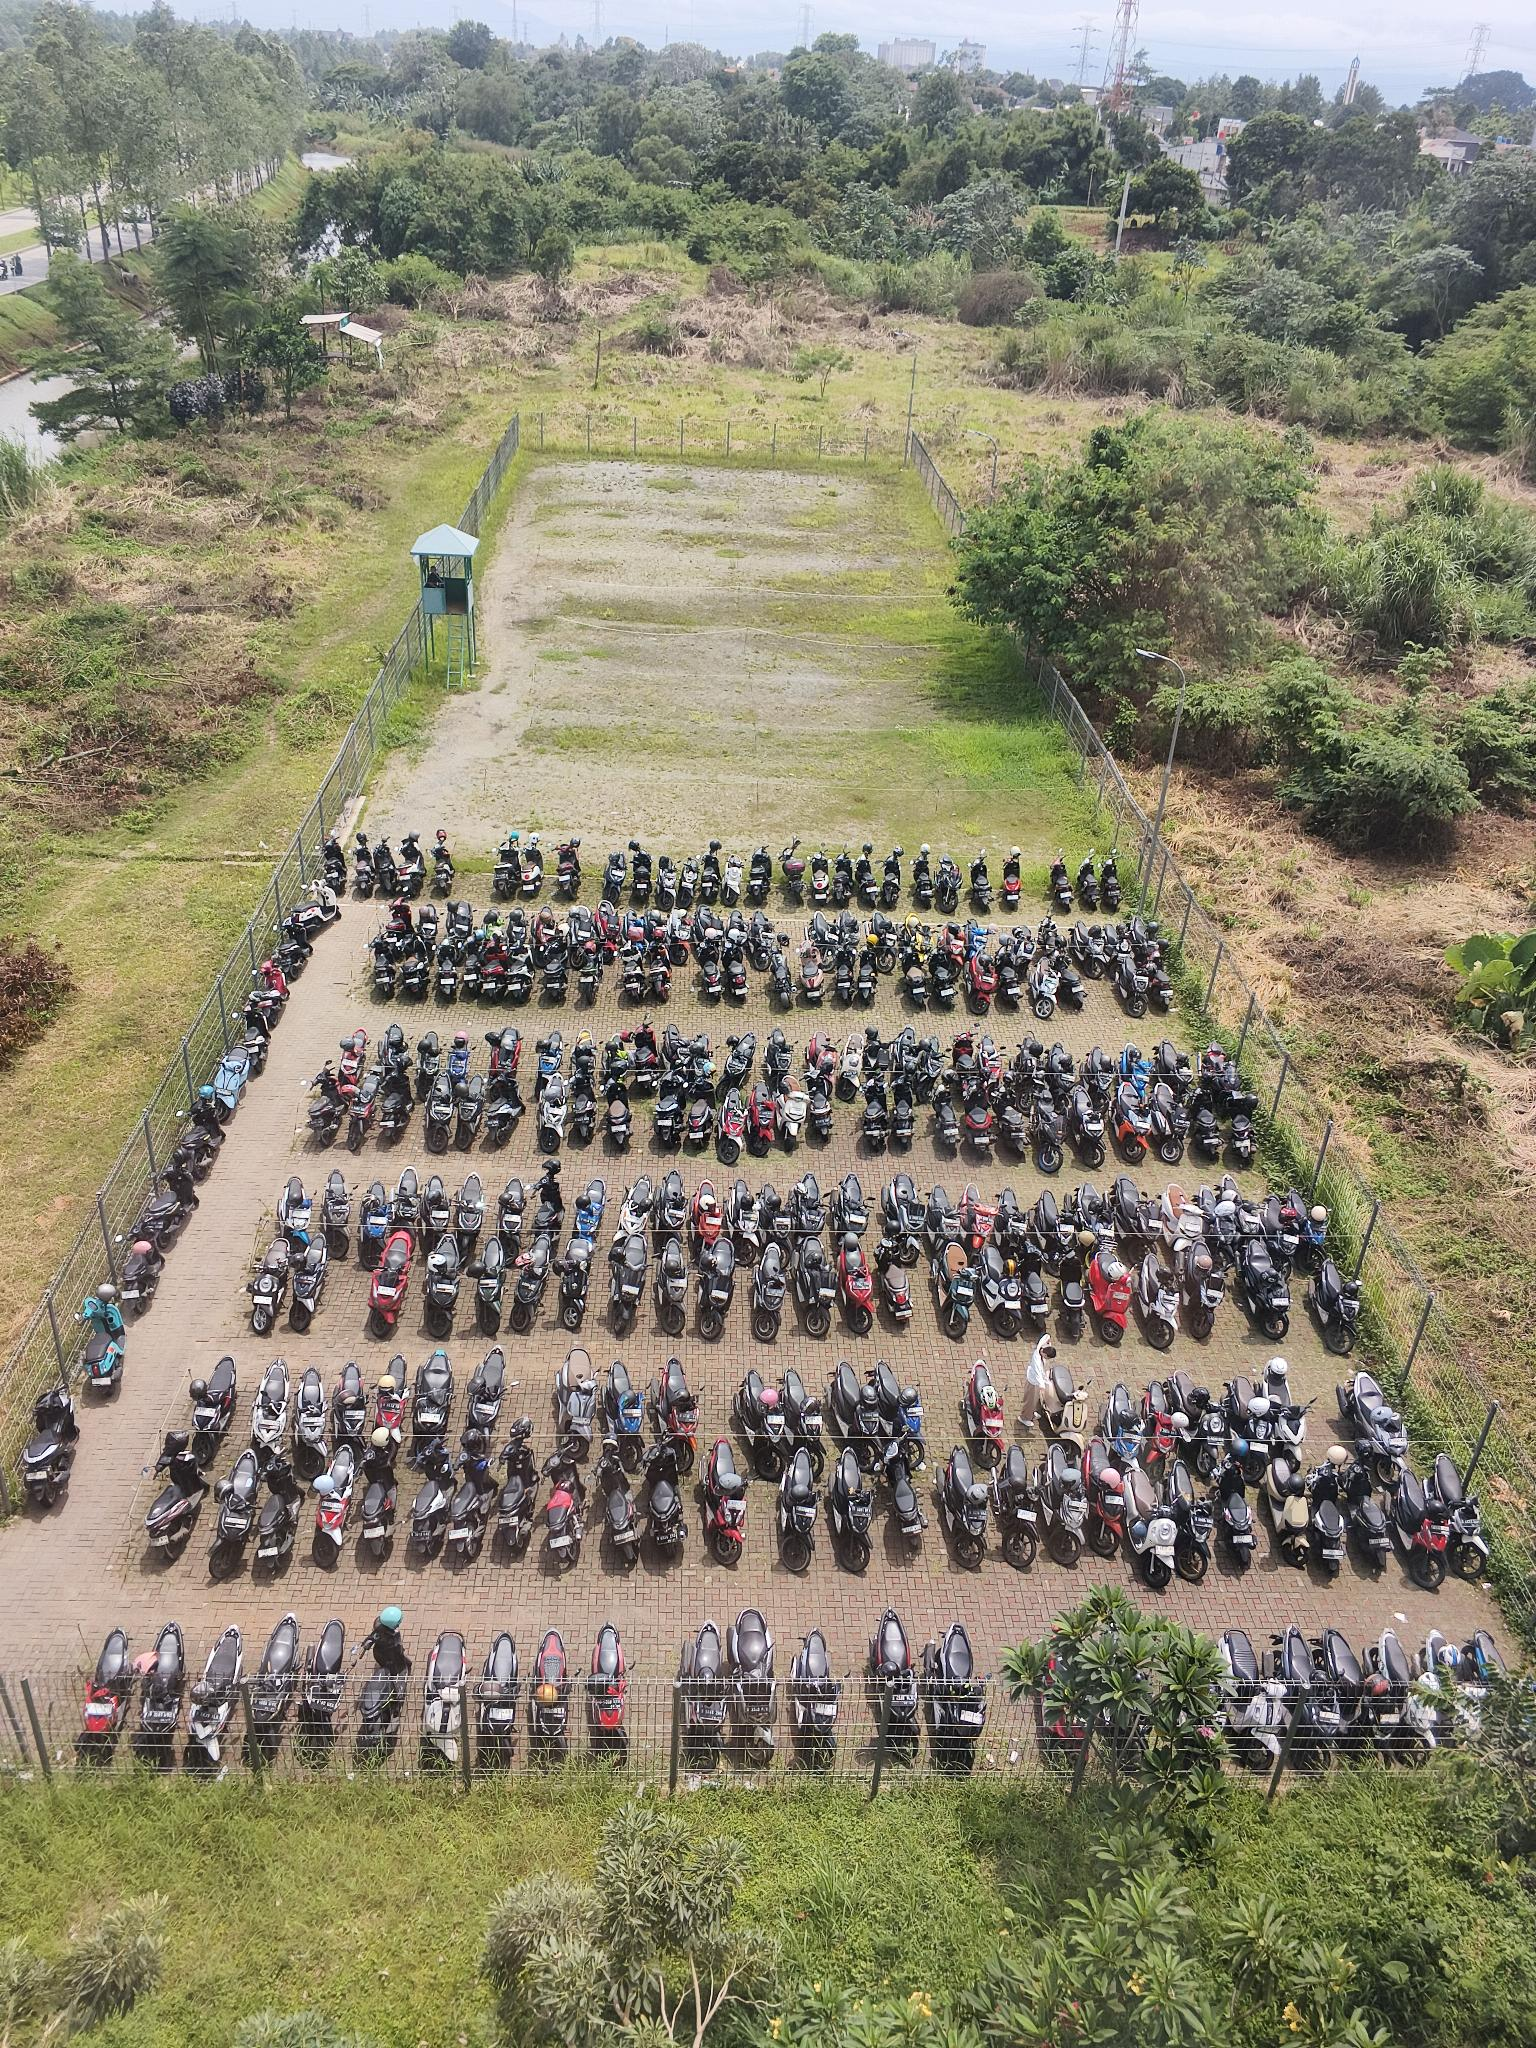motor: (1262, 1619, 1349, 1774), (918, 1616, 991, 1779), (1208, 1619, 1281, 1769), (863, 1609, 928, 1771), (786, 1625, 854, 1777), (1320, 1629, 1400, 1753), (721, 1611, 786, 1764), (579, 1617, 639, 1780), (353, 1605, 411, 1769), (1333, 1366, 1412, 1485), (674, 1617, 733, 1777), (18, 1384, 87, 1514), (1384, 1463, 1455, 1588), (76, 1622, 137, 1767), (187, 1622, 244, 1774), (1428, 1447, 1492, 1579), (471, 1624, 526, 1777), (134, 1617, 187, 1774), (697, 1432, 755, 1574), (523, 1621, 579, 1766), (865, 1355, 934, 1469), (144, 1430, 205, 1559), (537, 1437, 592, 1572), (647, 1353, 707, 1474), (934, 1442, 991, 1569), (1254, 1356, 1317, 1469), (591, 1440, 644, 1572), (733, 1364, 791, 1485), (74, 1284, 137, 1395), (248, 1616, 297, 1759), (824, 1359, 884, 1476), (1258, 1448, 1317, 1566), (1125, 1464, 1176, 1596), (955, 1355, 1016, 1466), (1162, 1456, 1217, 1580), (1342, 1442, 1392, 1577), (1231, 1237, 1296, 1342), (1163, 1367, 1228, 1472), (1213, 1442, 1263, 1574), (828, 1445, 876, 1580), (210, 1450, 258, 1584), (253, 1448, 303, 1577), (1304, 1255, 1363, 1363), (145, 1148, 207, 1253), (878, 1432, 931, 1551), (992, 1440, 1041, 1571), (550, 1345, 603, 1463), (773, 1447, 821, 1576), (305, 1617, 347, 1766), (599, 1355, 652, 1469), (1039, 1442, 1087, 1567), (1217, 1369, 1271, 1479), (186, 1351, 239, 1464), (452, 1432, 497, 1563), (289, 1358, 336, 1484), (642, 1438, 691, 1559), (358, 1427, 402, 1561), (1175, 1240, 1231, 1343), (779, 1363, 831, 1474), (1084, 1240, 1137, 1347), (1105, 1171, 1167, 1263), (929, 1238, 983, 1343), (791, 1232, 841, 1342), (311, 1445, 355, 1571), (1312, 1443, 1352, 1579), (408, 1437, 452, 1559), (871, 1222, 921, 1329), (368, 1224, 413, 1340), (741, 1238, 791, 1343), (978, 1237, 1028, 1342), (248, 1351, 292, 1471), (1081, 1438, 1125, 1558), (461, 1340, 513, 1437), (1136, 1247, 1183, 1353), (1050, 1235, 1096, 1345), (497, 1430, 539, 1548), (118, 1218, 168, 1316), (650, 1230, 695, 1337), (694, 1235, 739, 1342), (1136, 1374, 1181, 1480), (834, 1229, 878, 1337), (465, 1234, 510, 1337), (410, 1342, 455, 1445), (369, 1350, 411, 1458), (328, 1359, 371, 1463), (424, 1232, 466, 1338), (481, 1061, 529, 1151), (550, 1234, 595, 1330), (607, 1230, 647, 1338), (1041, 1364, 1096, 1443), (289, 1230, 331, 1334), (881, 1171, 928, 1261), (177, 1089, 224, 1179), (510, 1232, 552, 1330), (1065, 1082, 1110, 1172), (1108, 1079, 1154, 1169), (248, 1235, 289, 1335), (923, 1069, 966, 1159), (1286, 1185, 1331, 1272), (300, 1063, 347, 1147), (207, 1042, 252, 1126), (600, 1053, 636, 1159), (1021, 1230, 1057, 1337), (1029, 1087, 1070, 1180), (352, 1177, 392, 1271), (286, 879, 345, 942), (718, 1176, 763, 1258), (318, 1166, 358, 1258), (1258, 1192, 1300, 1279), (1097, 1379, 1142, 1459), (273, 1171, 311, 1264), (649, 1066, 689, 1155), (529, 1063, 568, 1155), (1025, 1187, 1076, 1255), (1150, 1079, 1191, 1164), (1221, 1087, 1263, 1168), (713, 1030, 762, 1100), (960, 1072, 997, 1163), (1154, 1179, 1207, 1242), (1457, 1622, 1510, 1685), (1409, 1622, 1462, 1685), (566, 1174, 613, 1245), (854, 1071, 892, 1156), (450, 1169, 486, 1261), (994, 1080, 1031, 1168), (529, 1158, 571, 1234), (800, 1063, 837, 1148), (887, 1066, 921, 1159), (232, 1000, 276, 1072), (344, 1071, 382, 1151), (271, 911, 313, 985), (566, 1056, 602, 1143), (684, 1063, 716, 1158), (954, 1180, 1002, 1243), (828, 1169, 874, 1234), (250, 955, 290, 1029), (1184, 1087, 1225, 1161), (784, 1168, 829, 1234), (381, 1059, 415, 1147), (776, 1071, 810, 1158), (1218, 1172, 1262, 1238), (650, 1168, 689, 1242), (1070, 1177, 1115, 1240), (1365, 1627, 1417, 1682), (423, 1068, 455, 1155), (1192, 1037, 1244, 1090), (991, 1182, 1036, 1242), (657, 1019, 692, 1095), (492, 1174, 528, 1250), (389, 1164, 423, 1243), (1192, 1179, 1233, 1245), (1008, 1029, 1046, 1100), (755, 1169, 794, 1237), (615, 1172, 653, 1240), (715, 1085, 747, 1166), (962, 947, 997, 1019), (1112, 950, 1149, 1019), (1150, 1035, 1194, 1093), (455, 1064, 484, 1151), (994, 935, 1026, 1013), (925, 1180, 965, 1242), (616, 932, 650, 1005), (1112, 1040, 1155, 1097), (760, 1021, 799, 1084), (684, 1176, 726, 1234), (537, 934, 571, 1005), (489, 1022, 526, 1087), (802, 910, 841, 971), (695, 927, 726, 1005), (634, 1011, 662, 1097), (797, 932, 829, 1005), (934, 847, 966, 918), (532, 1024, 565, 1095), (645, 929, 676, 1003), (1068, 921, 1107, 979), (394, 830, 428, 897), (550, 835, 584, 901), (397, 935, 431, 1001), (368, 929, 399, 1001), (928, 942, 958, 1014), (721, 927, 750, 1003), (899, 908, 937, 964), (1028, 955, 1062, 1019), (805, 1027, 837, 1095), (423, 1171, 455, 1238), (907, 842, 937, 913), (766, 939, 797, 1009), (749, 1076, 774, 1159), (834, 1029, 863, 1103), (426, 829, 458, 895), (490, 829, 523, 895), (1046, 1035, 1076, 1105), (578, 929, 605, 1006), (1147, 937, 1175, 1014), (1078, 1042, 1117, 1097), (900, 942, 929, 1014), (413, 1026, 442, 1098), (944, 1022, 981, 1079), (778, 837, 808, 905), (507, 934, 536, 1005), (854, 935, 883, 1006), (689, 1030, 718, 1101), (999, 843, 1026, 918), (481, 932, 508, 1005), (1060, 947, 1089, 1014), (965, 848, 995, 911), (339, 1022, 369, 1085), (566, 1026, 599, 1085), (879, 843, 908, 910), (868, 908, 897, 974), (529, 900, 558, 966), (432, 934, 458, 1008), (745, 908, 776, 969), (444, 898, 474, 959), (862, 1022, 892, 1084), (444, 1026, 474, 1087), (518, 830, 545, 898), (566, 900, 594, 968), (978, 1027, 1005, 1095), (1047, 847, 1075, 913), (1075, 845, 1102, 911), (350, 832, 376, 901), (628, 835, 653, 905), (831, 939, 857, 1008), (918, 1029, 944, 1098), (415, 903, 444, 964), (384, 889, 415, 947), (749, 843, 776, 908), (374, 1018, 407, 1072), (892, 1022, 918, 1090), (602, 1026, 629, 1087), (321, 837, 349, 895), (697, 839, 723, 900), (854, 845, 879, 906), (1005, 922, 1036, 974), (941, 918, 966, 979), (834, 906, 865, 958), (1100, 850, 1125, 914), (600, 847, 626, 905), (373, 835, 397, 897), (810, 842, 833, 906), (594, 898, 618, 958), (833, 840, 854, 908), (463, 929, 482, 998), (655, 851, 678, 910), (666, 910, 691, 963), (503, 905, 532, 948), (676, 853, 699, 908), (479, 903, 508, 945), (965, 916, 997, 953), (723, 908, 753, 945), (1039, 918, 1066, 958), (695, 905, 723, 945), (1100, 921, 1133, 955), (723, 851, 742, 905), (641, 906, 666, 942), (621, 905, 644, 942), (1129, 913, 1158, 939)
